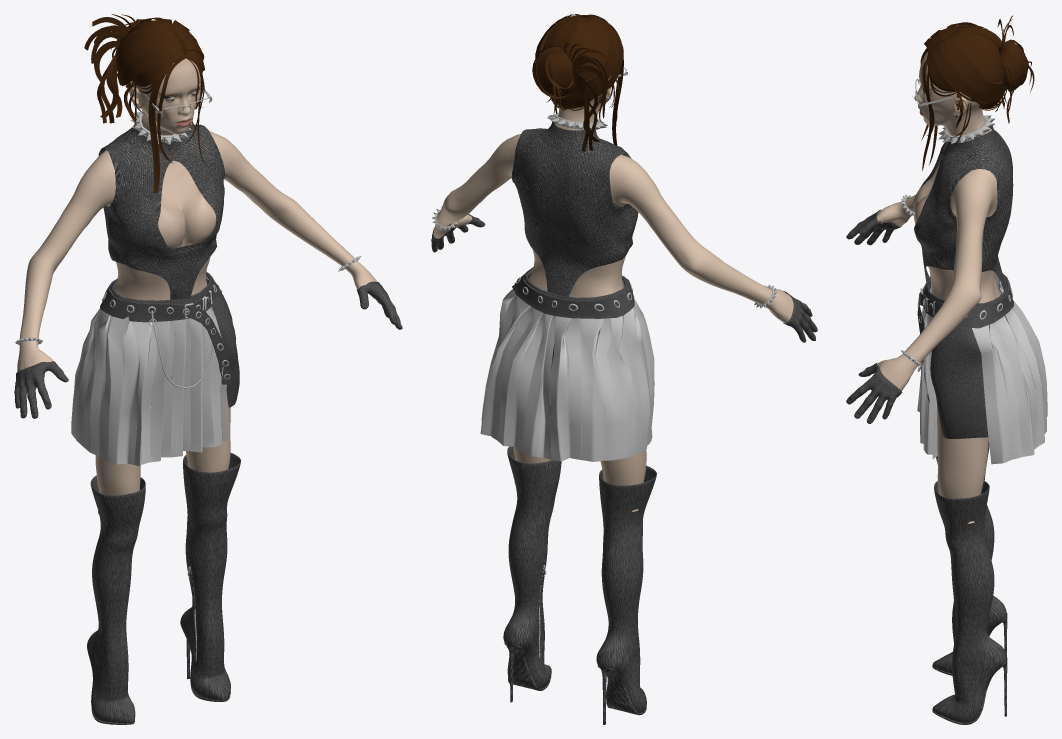
File: export for unity.fbx
3 views of the same model, side by side, from view 1: azimuth 30°, elevation 25°; view 2: azimuth 150°, elevation 25°; view 3: azimuth 270°, elevation 25° (orthographic). The views are drawn at different scales.
Visible parts, largest first — view 1: test, baseMesh, sorana boot_0, Object_3, F_HAIR_636, baseMesh.001; view 2: test, sorana boot_0, Object_3, baseMesh, F_HAIR_636, baseMesh.001; view 3: test, baseMesh, sorana boot_0, F_HAIR_636, Object_3, baseMesh.001, Chocker.
Boxes of the visible parts, bbox=[...] form: test: bbox=[71, 271, 239, 466]; baseMesh: bbox=[17, 58, 377, 514]; sorana boot_0: bbox=[87, 453, 240, 724]; Object_3: bbox=[98, 124, 225, 378]; F_HAIR_636: bbox=[84, 14, 207, 193]; baseMesh.001: bbox=[14, 281, 402, 418]; test: bbox=[480, 267, 654, 461]; sorana boot_0: bbox=[503, 446, 656, 724]; Object_3: bbox=[511, 121, 638, 369]; baseMesh: bbox=[433, 76, 793, 511]; F_HAIR_636: bbox=[532, 14, 623, 151]; baseMesh.001: bbox=[431, 214, 817, 342]; test: bbox=[917, 273, 1047, 464]; baseMesh: bbox=[877, 52, 1000, 523]; sorana boot_0: bbox=[932, 441, 1007, 724]; F_HAIR_636: bbox=[920, 15, 1034, 171]; Object_3: bbox=[913, 126, 1013, 290]; baseMesh.001: bbox=[846, 209, 902, 423]; Chocker: bbox=[938, 115, 995, 143].
Size of the model in its own units: 148 by 254 by 69.73.
